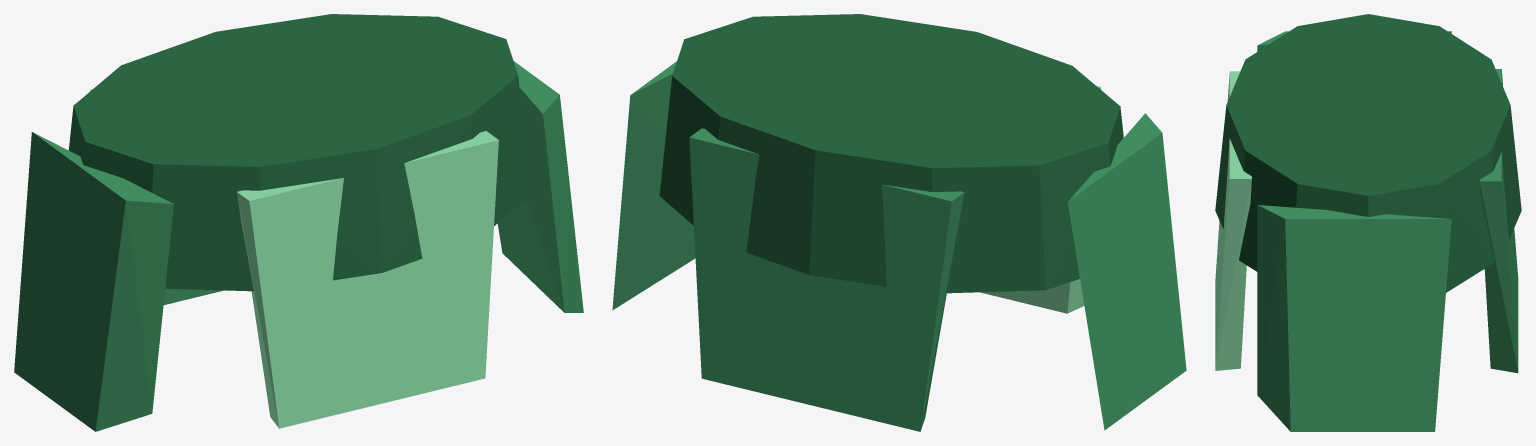
File: gear_adamant_legs_hips_m.glb
3 views of the same model, side by side, from view 1: azimuth 30°, elevation 25°; view 2: azimuth 150°, elevation 25°; view 3: azimuth 270°, elevation 25° (orthographic). The views are drawn at different scales.
Parts seen in each view (by area): view 1: gear_adamant_legs_hips_m; view 2: gear_adamant_legs_hips_m; view 3: gear_adamant_legs_hips_m.
Part boxes in pixels (x1,y1,x2,y2): gear_adamant_legs_hips_m: (14,14,583,431); gear_adamant_legs_hips_m: (612,14,1186,431); gear_adamant_legs_hips_m: (1215,14,1521,431).
Bounding box in the file's own units: 0.45 × 0.22 × 0.276.
